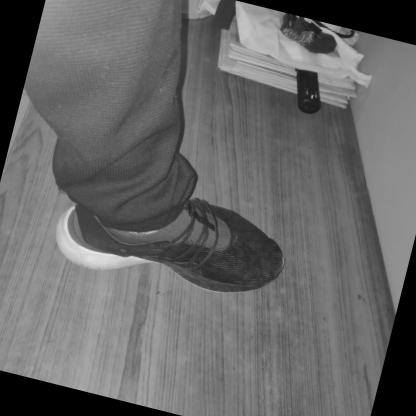ankle: (127, 237, 136, 245)
heel: (58, 228, 64, 233)
pinky: (255, 231, 260, 236)
right_foot: (49, 171, 294, 316)
toe: (272, 273, 277, 279)
